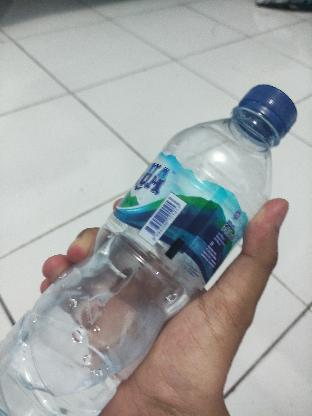Plastic Bottle: (0, 50, 310, 416)
